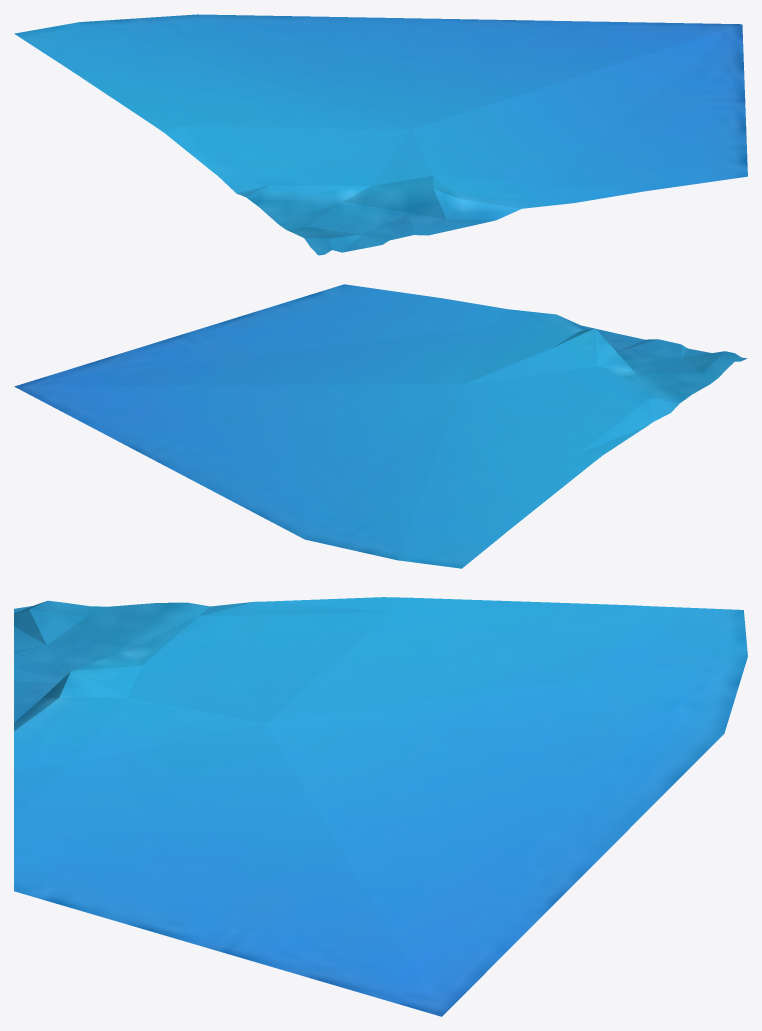
3 views of the same model, one above another, from view 1: azimuth 30°, elevation 25°; view 2: azimuth 150°, elevation 25°; view 3: azimuth 270°, elevation 25° (orthographic). The views are drawn at different scales.
Bounding box in the file's own units: 7.85 × 0.7721 × 6.91.
1 material, 1 textured.
